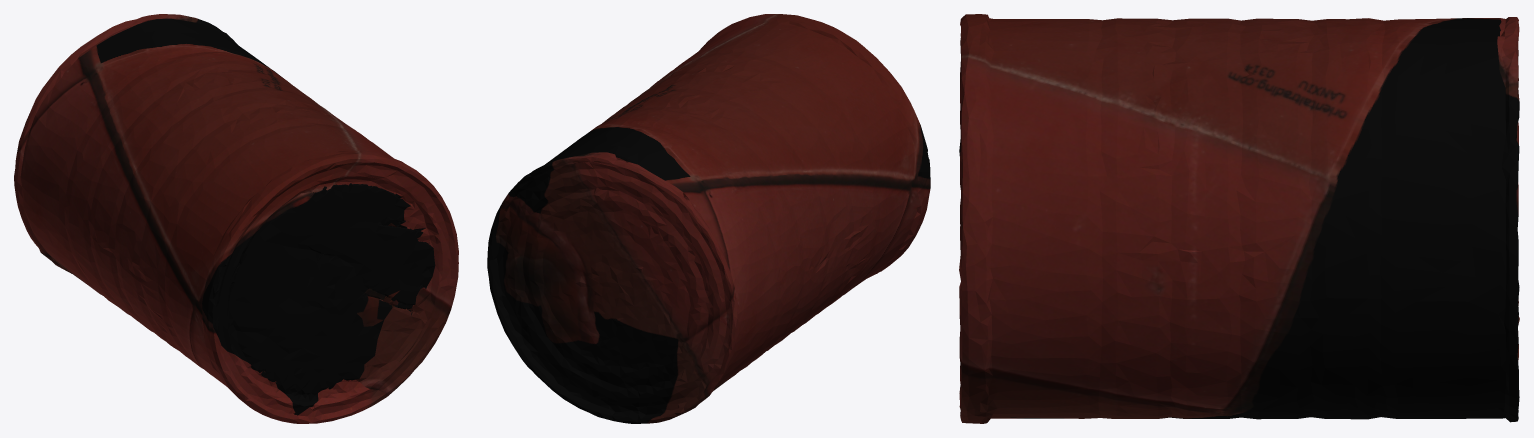
3 renders of one model, left to right at view 1: azimuth 30°, elevation 25°; view 2: azimuth 150°, elevation 25°; view 3: azimuth 270°, elevation 25°, orthographic. The views are drawn at different scales.
Size of the model in its own units: 0.1025 by 0.1024 by 0.1402.
